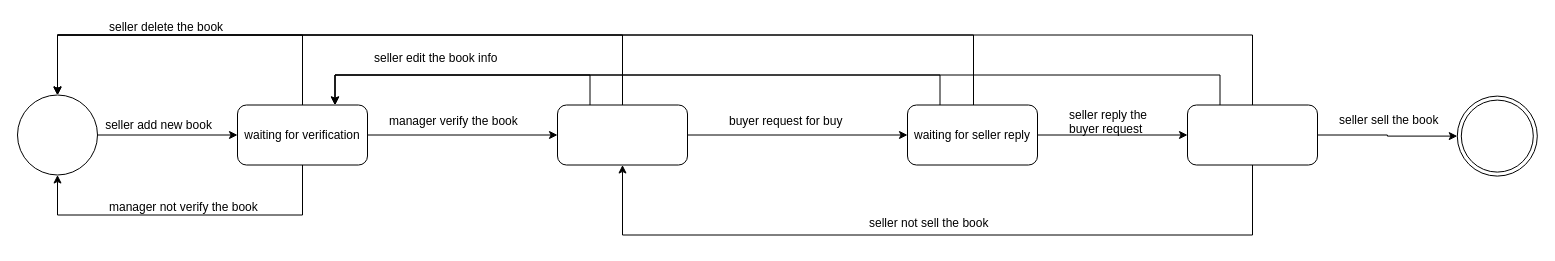
The diagram is 1555 pixels wide and 261 high, and some of its shapes have lost their labels. The shapes that lost their labels are listed below. From the top down, each one's centre as x and y in pixels, then its label:
At point 622,134: "waiting for buy request".
At point 1252,134: "connect seller and buyer".
